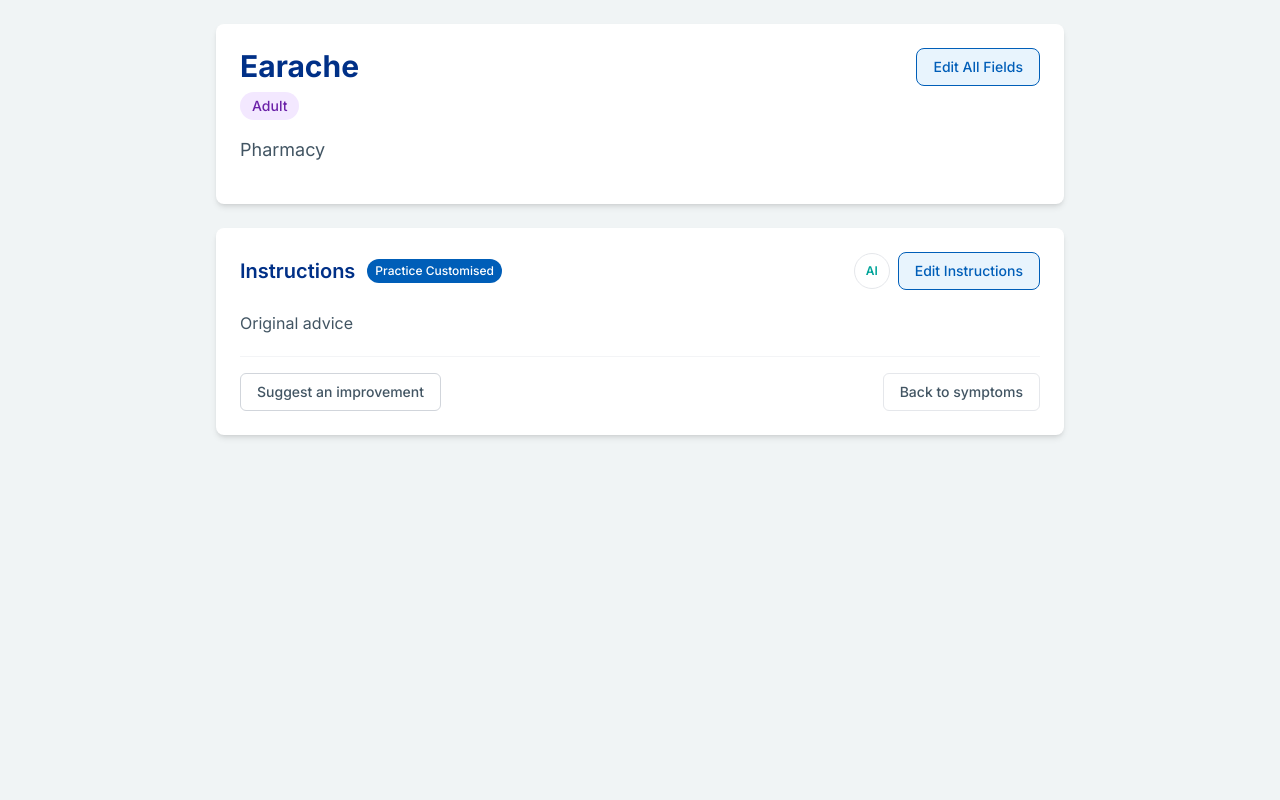
Test case: AI suggestion preview modal › sends the EDITED brief label
This screenshot has width=1280, height=800.
Click the button with aria-label "Suggest improved wording (AI)" at (872, 271), box [854,253,890,289]
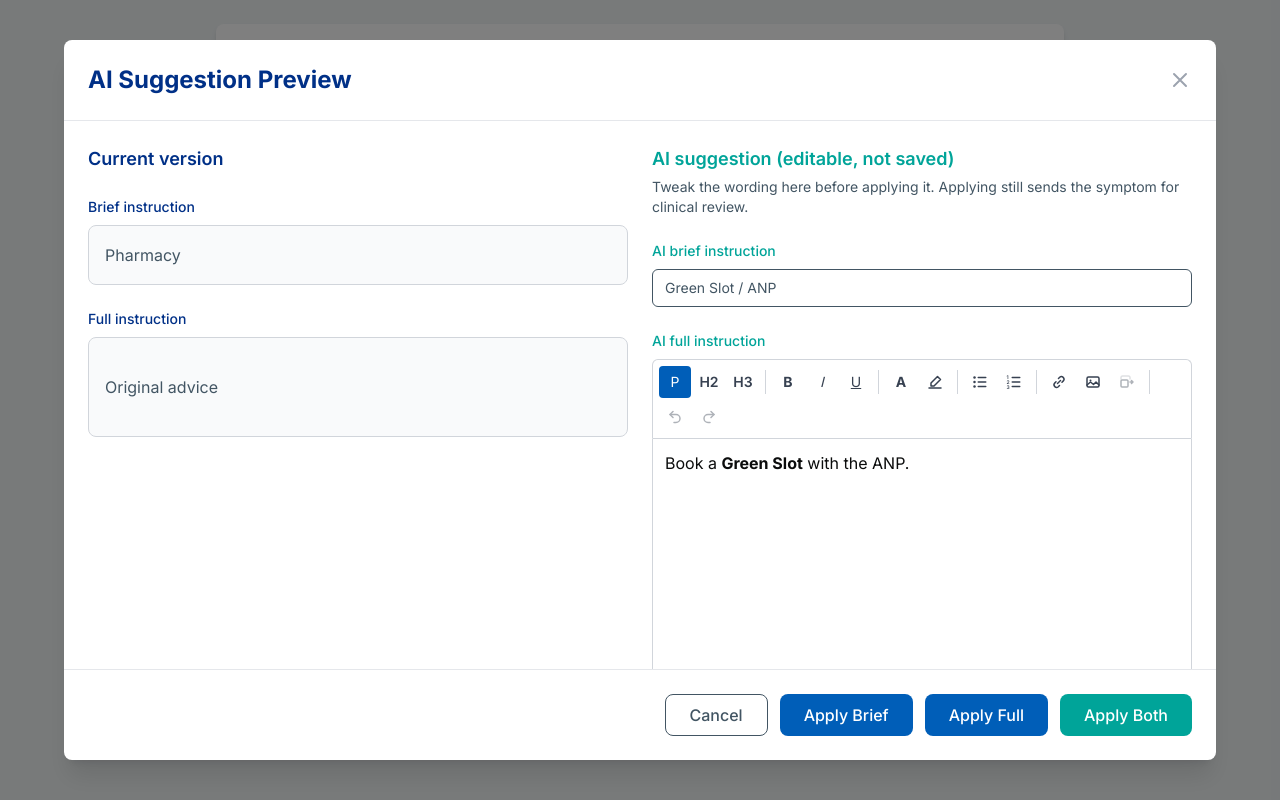
Expected: the heading "AI Suggestion Preview" is shown, [88,64,352,96]
Replace the text in the field labelled "AI brief instruction" with "Green Slot / ANP / Pharmacy First" at (922, 288), box [652,269,1192,307]
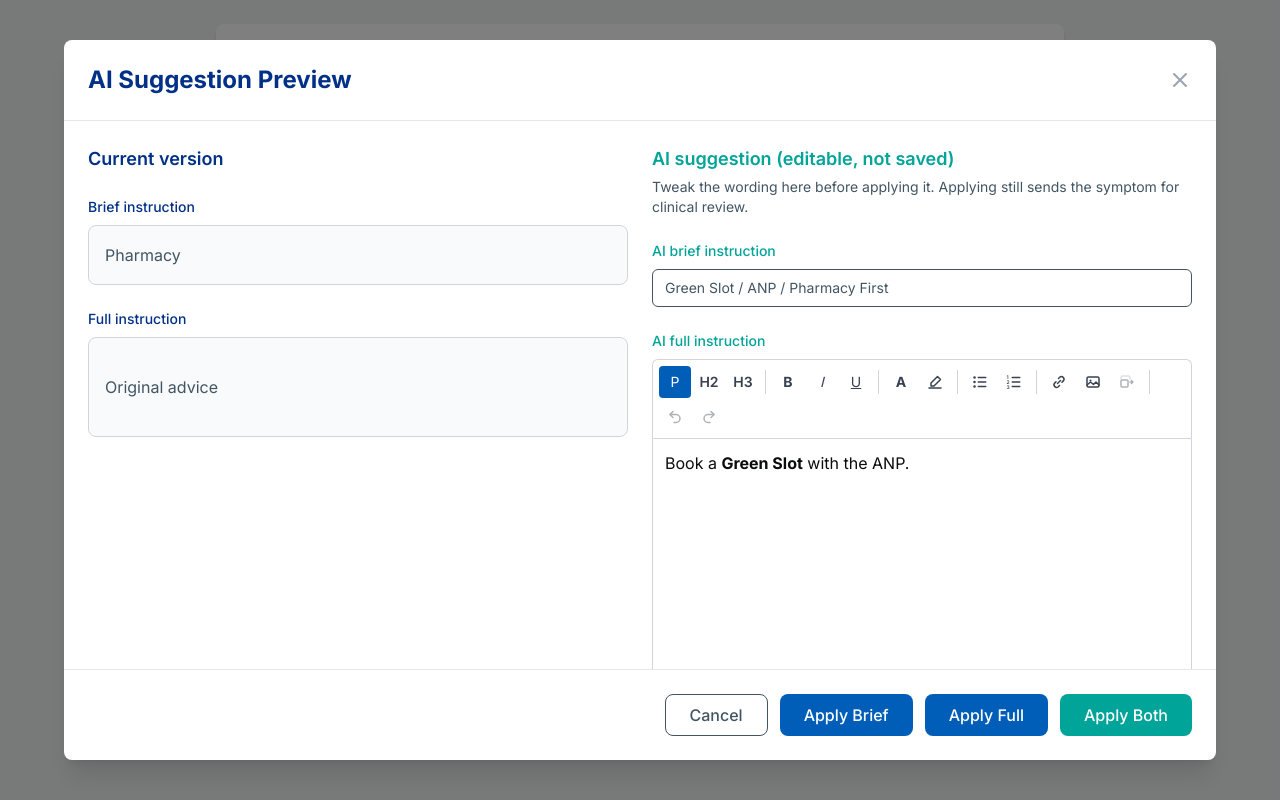
Click the button "Apply Brief" at (846, 715), box [780,694,913,736]
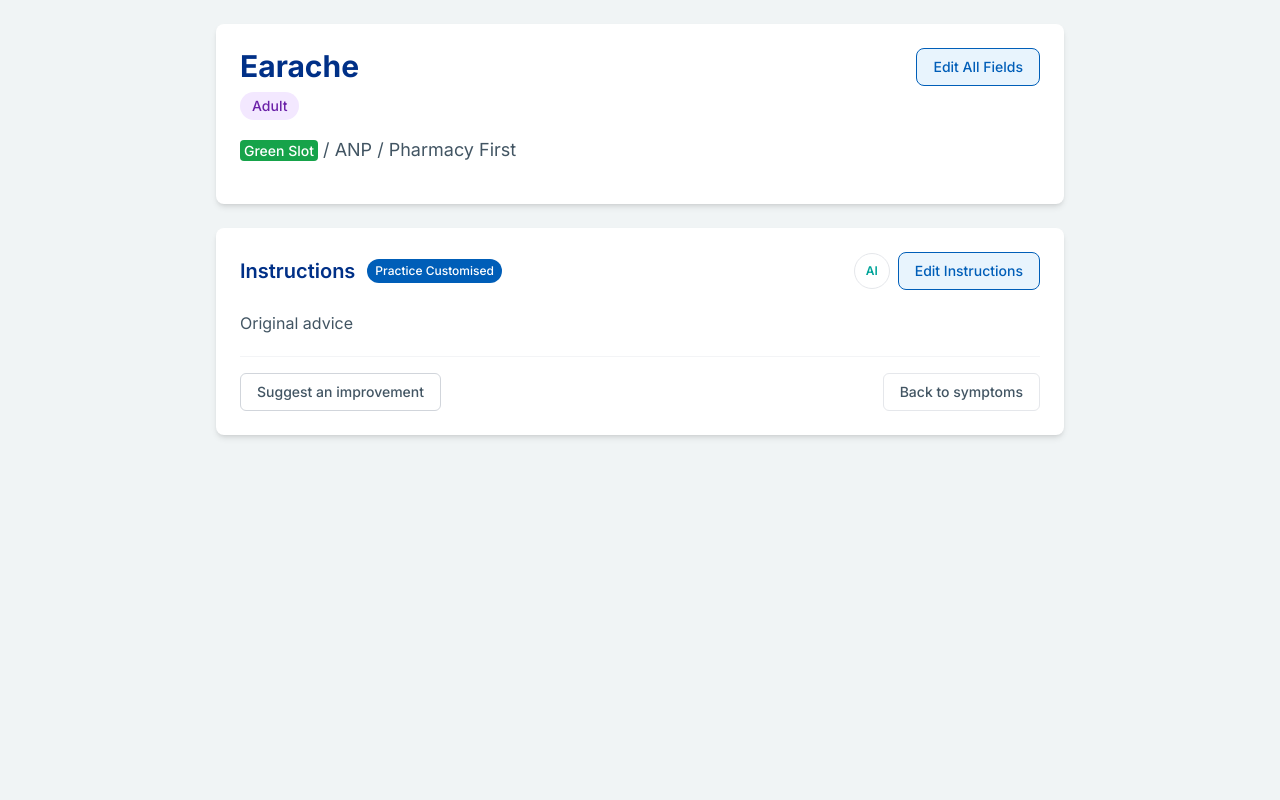
Expected: the element showing "Green Slot / ANP / Pharmacy First" is shown, [240,139,516,161]
